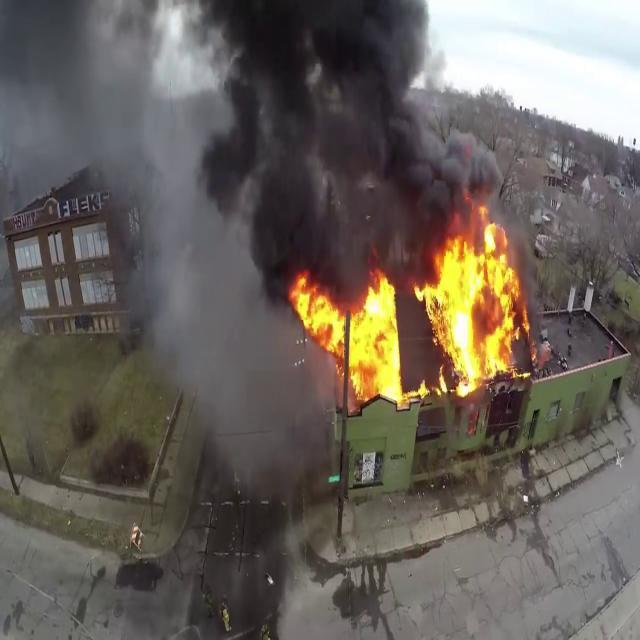Fire: (296, 215, 532, 404)
Smoke: (105, 0, 315, 503), (169, 0, 473, 273)
